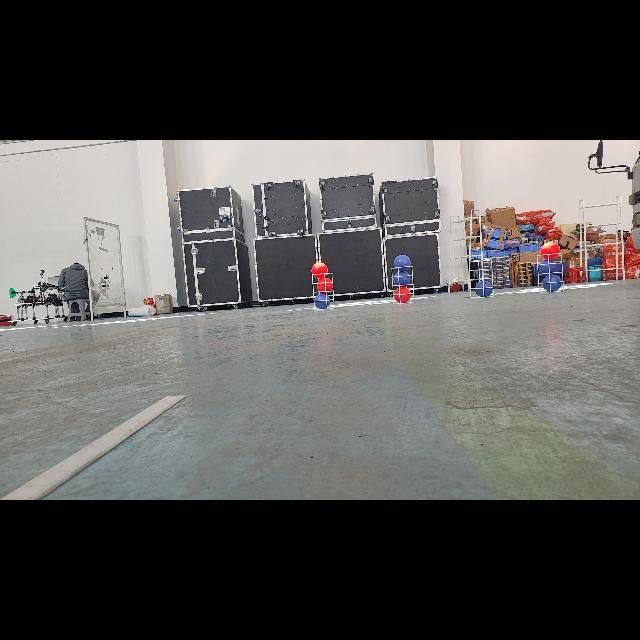B: (542, 274, 562, 292), (474, 282, 494, 298), (538, 260, 558, 276), (394, 254, 411, 272), (393, 271, 411, 287), (315, 293, 331, 309)
R: (540, 242, 560, 260), (317, 276, 333, 294), (394, 287, 411, 303), (312, 262, 328, 278)
S: (534, 252, 568, 296), (468, 257, 498, 301), (389, 263, 418, 307), (308, 271, 336, 311)
